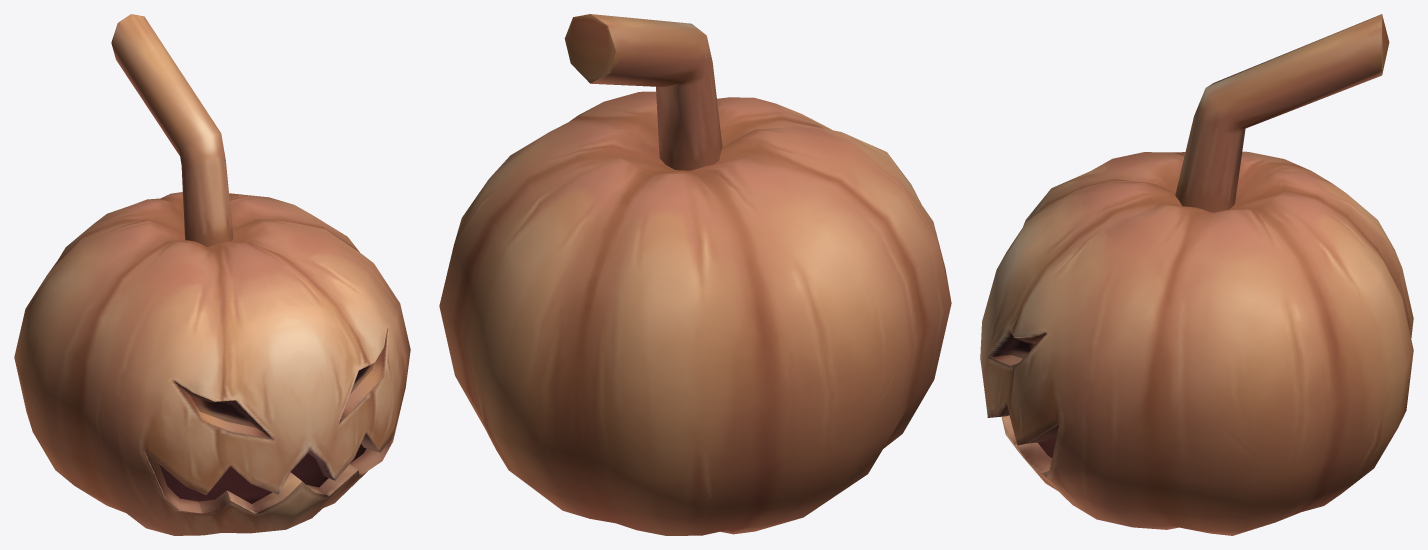
Rendered from nangua.FBX.
3 renders of one model, left to right at view 1: azimuth 30°, elevation 25°; view 2: azimuth 150°, elevation 25°; view 3: azimuth 270°, elevation 25°, orthographic. The views are drawn at different scales.
Parts seen in each view (by area): view 1: Monster_NanGuaHun; view 2: Monster_NanGuaHun; view 3: Monster_NanGuaHun.
Part boxes in pixels (<box>): Monster_NanGuaHun: <box>14,14,410,535</box>; Monster_NanGuaHun: <box>439,14,951,535</box>; Monster_NanGuaHun: <box>980,14,1413,535</box>.
Size of the model in its own units: 39.02 by 48.58 by 38.98.
